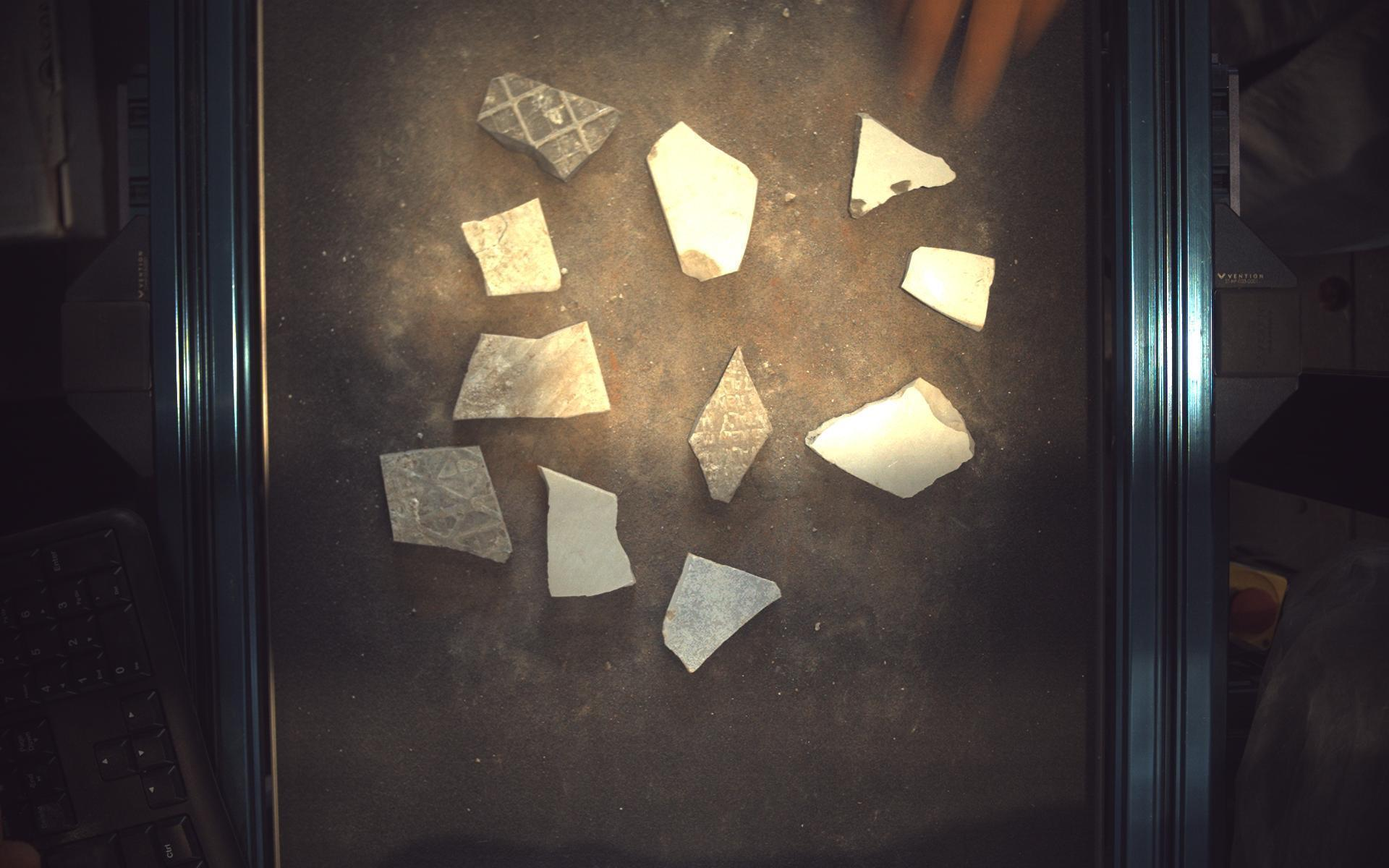tile: (807, 378, 977, 498), (648, 120, 759, 281), (454, 321, 611, 420), (478, 72, 621, 180), (381, 447, 512, 563), (663, 554, 782, 673), (689, 347, 773, 503), (540, 467, 635, 598), (851, 112, 958, 217), (462, 197, 561, 296), (903, 246, 997, 331)
